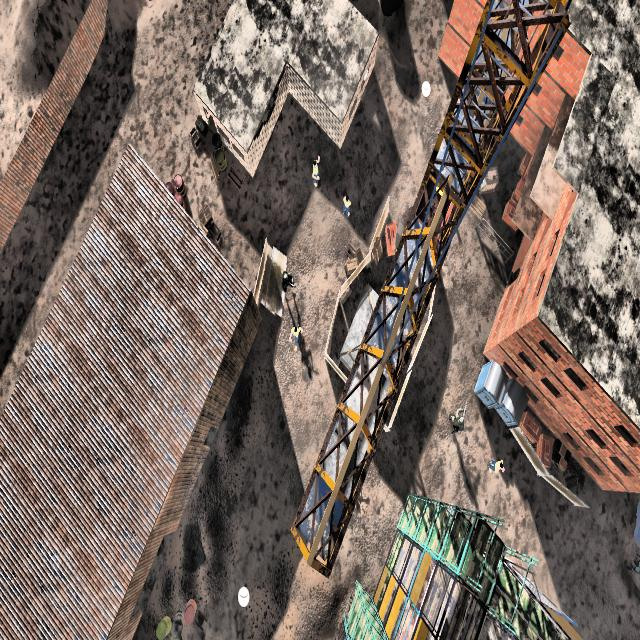bad: (448, 399, 468, 441), (278, 265, 297, 300)
good: (304, 146, 326, 196), (486, 439, 507, 485), (336, 181, 356, 226), (289, 317, 304, 357)
